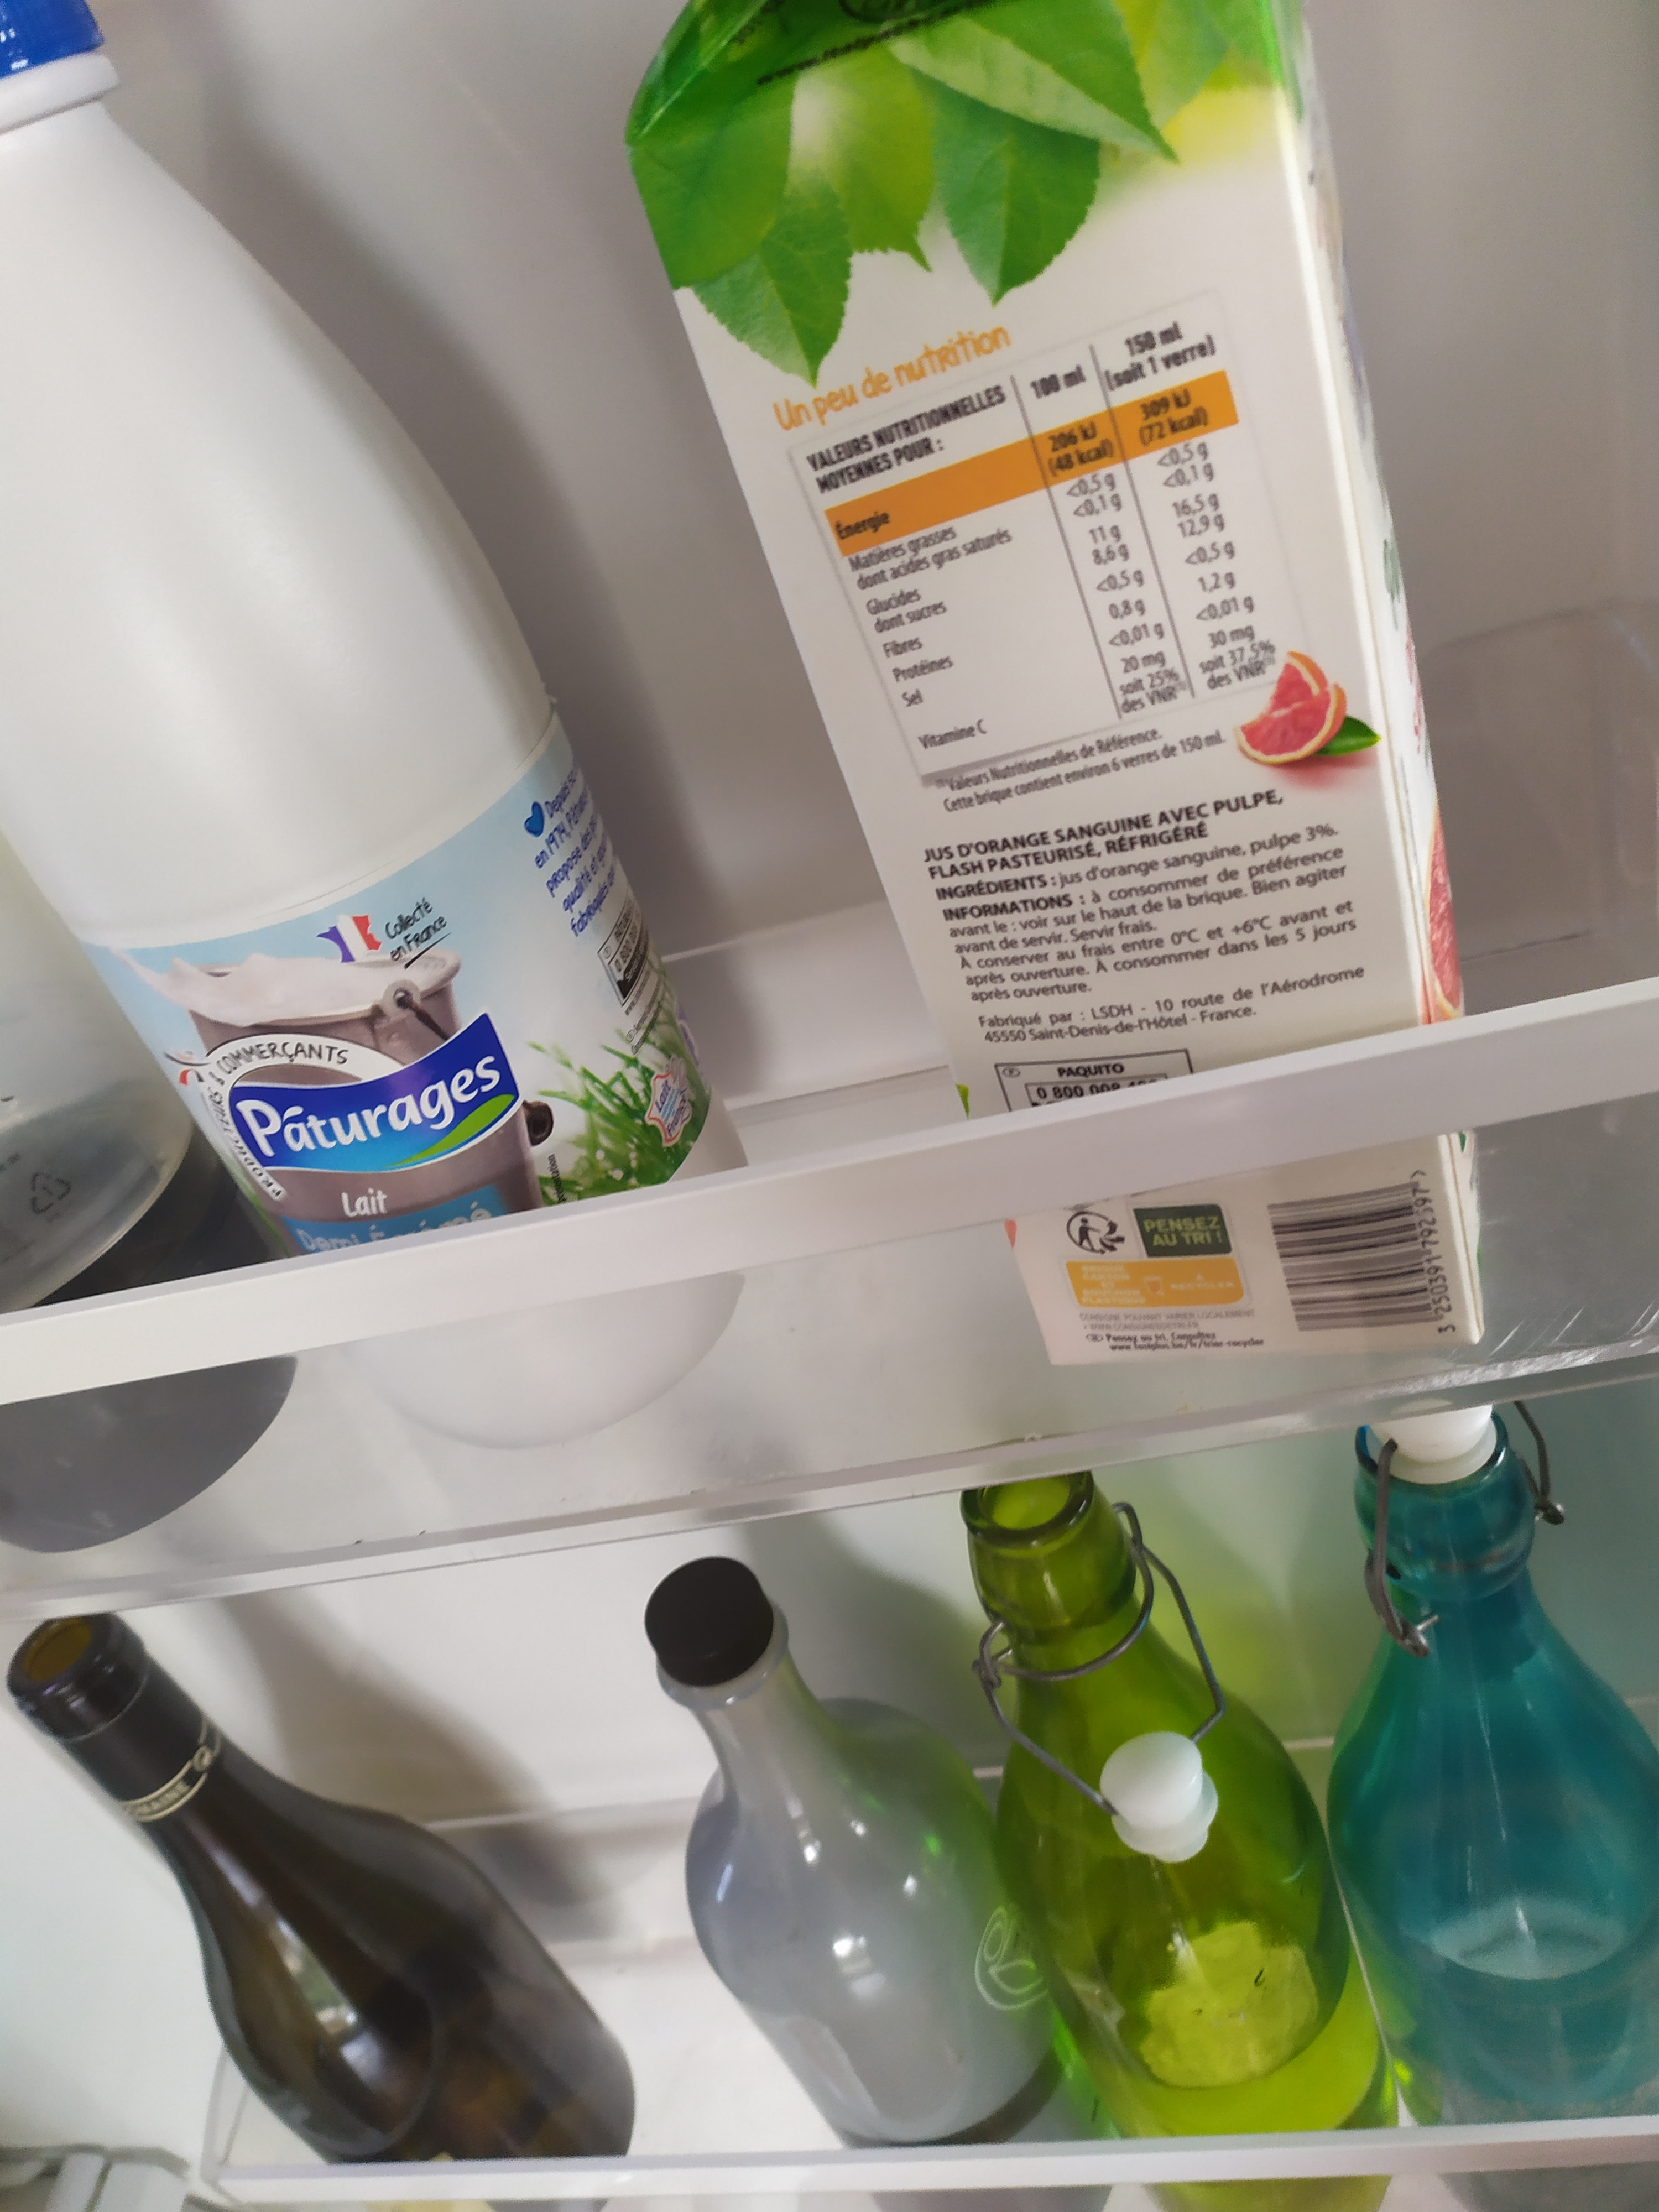bottle: (627, 0, 1485, 1348), (3, 1620, 678, 2207), (971, 1468, 1401, 2212), (640, 1555, 1121, 2212), (1323, 1407, 1659, 2212), (0, 820, 303, 1550)
milk: (0, 0, 753, 1458)
